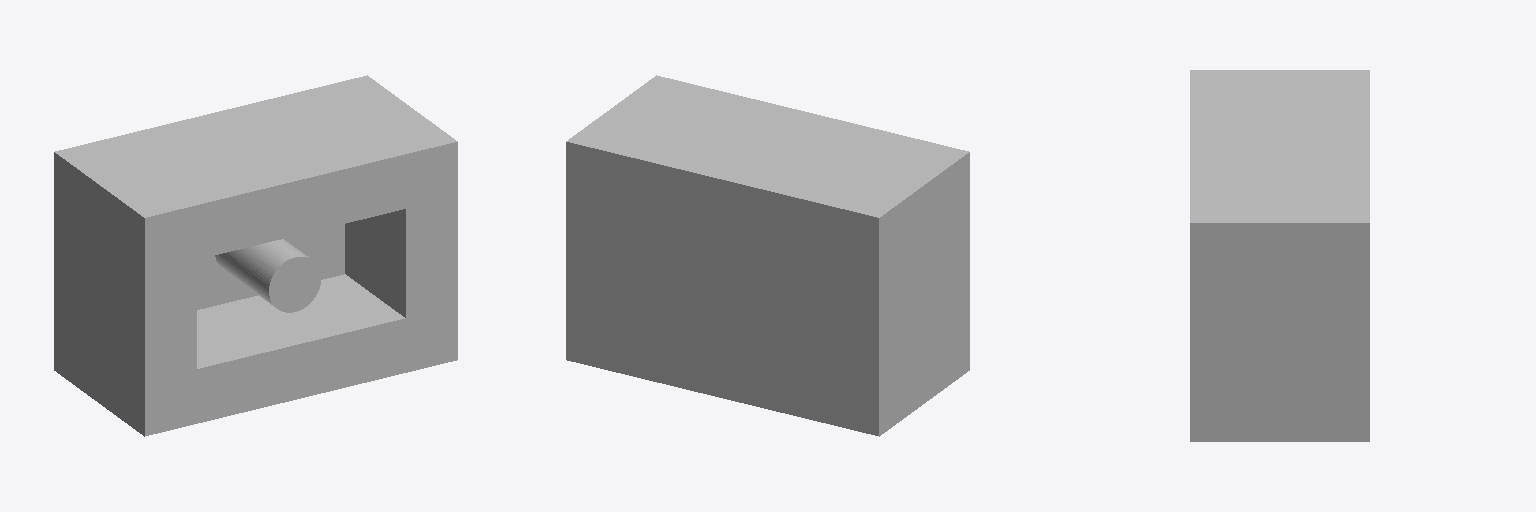
Rendered from tank8.obj.
3 views of the same model, side by side, from view 1: azimuth 30°, elevation 25°; view 2: azimuth 150°, elevation 25°; view 3: azimuth 270°, elevation 25° (orthographic).
Size of the model in its own units: 3 by 2 by 1.5.